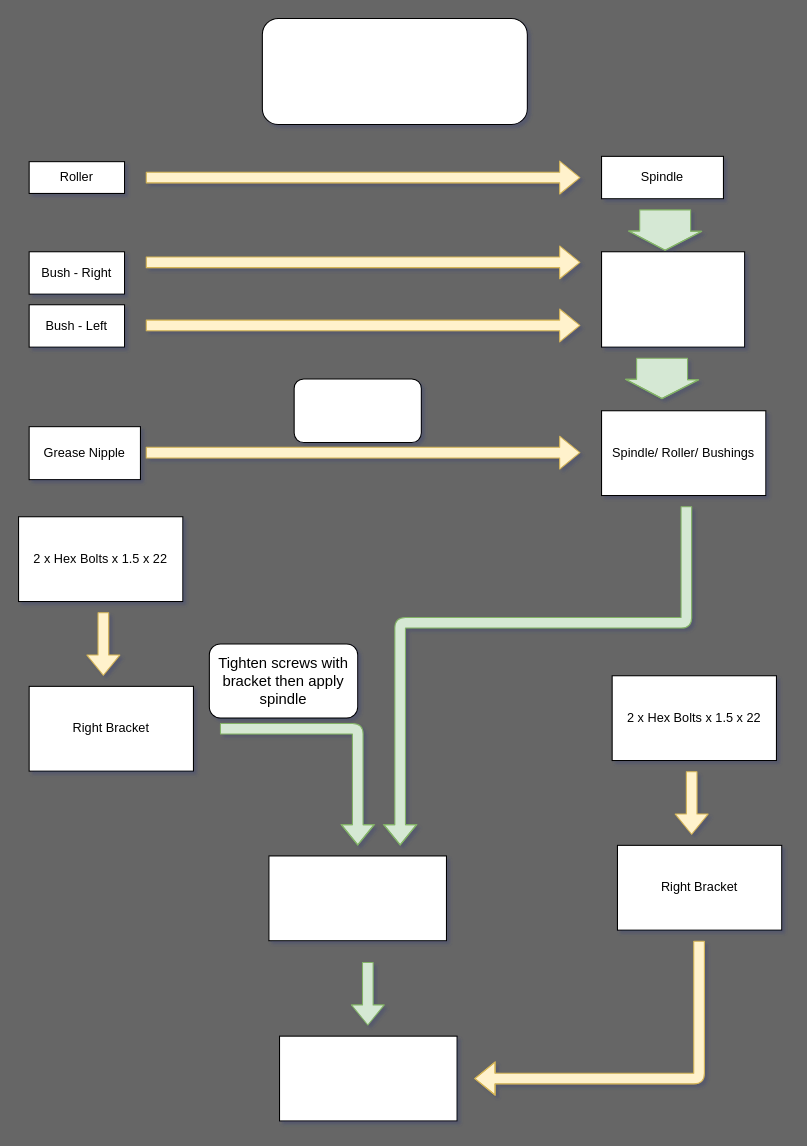
The diagram is 807 pixels wide and 1146 high, and some of its shapes have lost their labels. Here are the shapes that lost their labels. From the top down, the centre of each, then its label:
At (x=394, y=71): "Roller Bracket Assembly Chart".
At (x=672, y=299): "Spindle/ Roller".
At (x=357, y=410): "Press into right side".
At (x=357, y=898): "Base / Right Bracket".
At (x=367, y=1078): "Base / Right Bracket / Spindle and counter parts".
